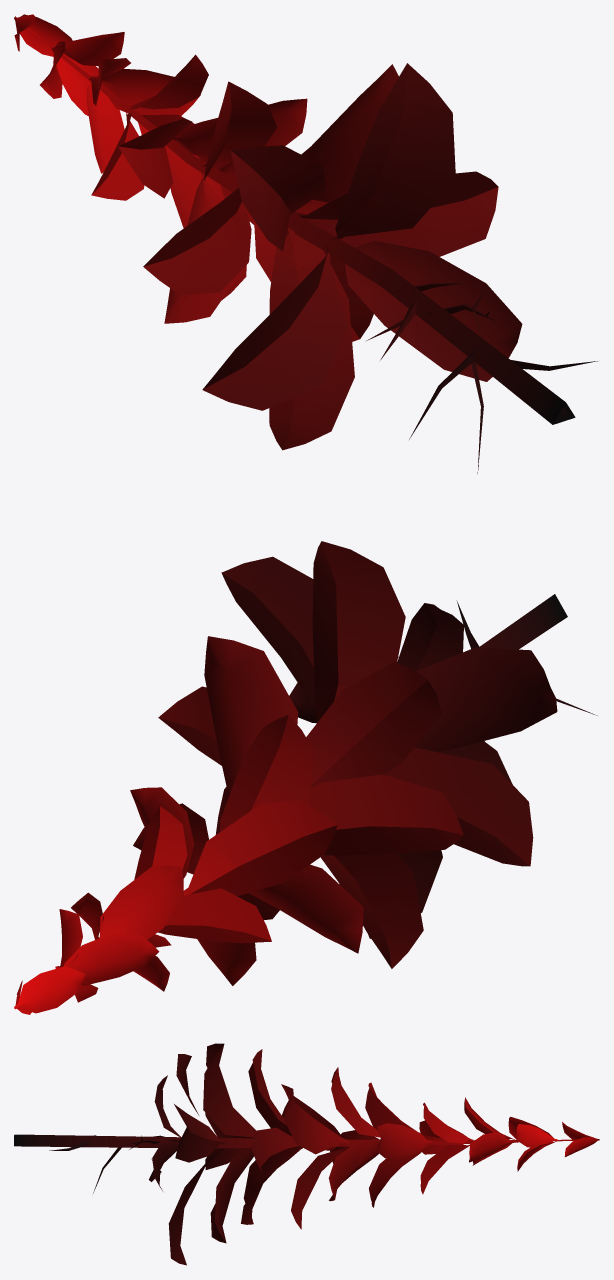
Rendered from SM_TreeSpruce02.fbx.
3 renders of one model, top to bottom at view 1: azimuth 30°, elevation 25°; view 2: azimuth 150°, elevation 25°; view 3: azimuth 270°, elevation 25°, orthographic. The views are drawn at different scales.
Visible parts, largest first — view 1: SM_TreeSpruce02; view 2: SM_TreeSpruce02; view 3: SM_TreeSpruce02.
Part boxes in pixels (x1,y1,x2,y2): SM_TreeSpruce02: (14,14,597,473); SM_TreeSpruce02: (14,541,597,1014); SM_TreeSpruce02: (14,1043,599,1265).
Bounding box in the file's own units: 40.33 × 48 × 113.
